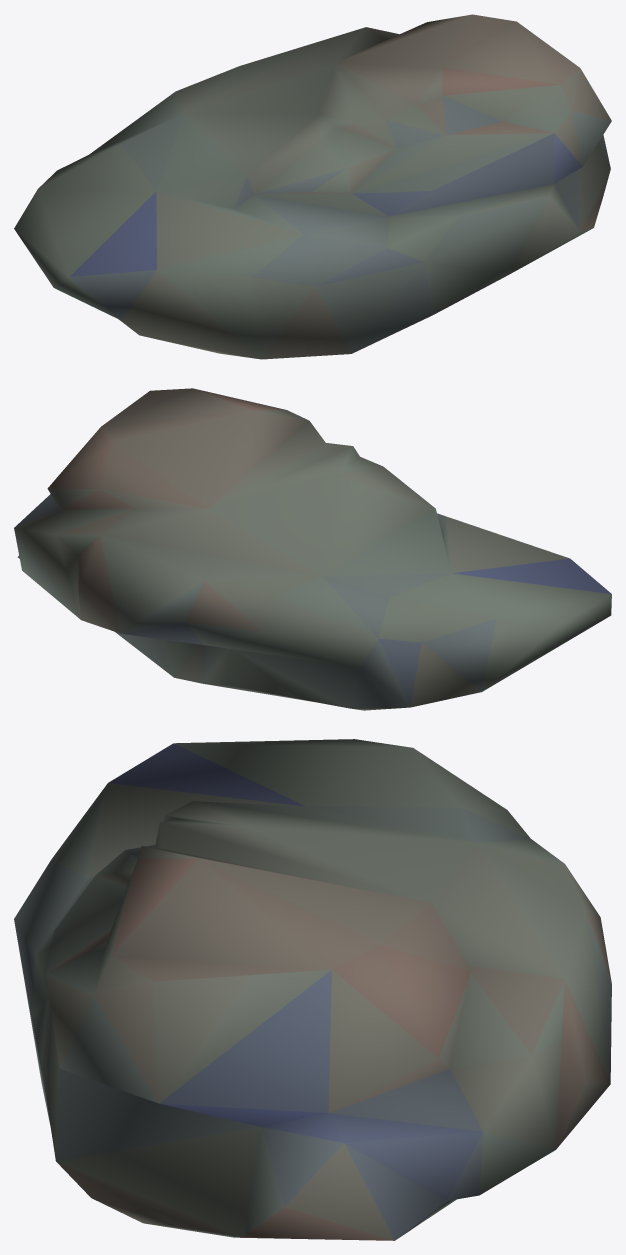
The model's file is rock_single_01_COL.fbx.
3 views of the same model, one above another, from view 1: azimuth 30°, elevation 25°; view 2: azimuth 150°, elevation 25°; view 3: azimuth 270°, elevation 25° (orthographic). The views are drawn at different scales.
Parts seen in each view (by area): view 1: Rock_Single_01_COL; view 2: Rock_Single_01_COL; view 3: Rock_Single_01_COL.
Part boxes in pixels (x1=…): Rock_Single_01_COL: x1=14, y1=14, x2=611, y2=359; Rock_Single_01_COL: x1=14, y1=388, x2=611, y2=710; Rock_Single_01_COL: x1=14, y1=739, x2=611, y2=1240.
Bounding box in the file's own units: 398 × 146 × 232.
